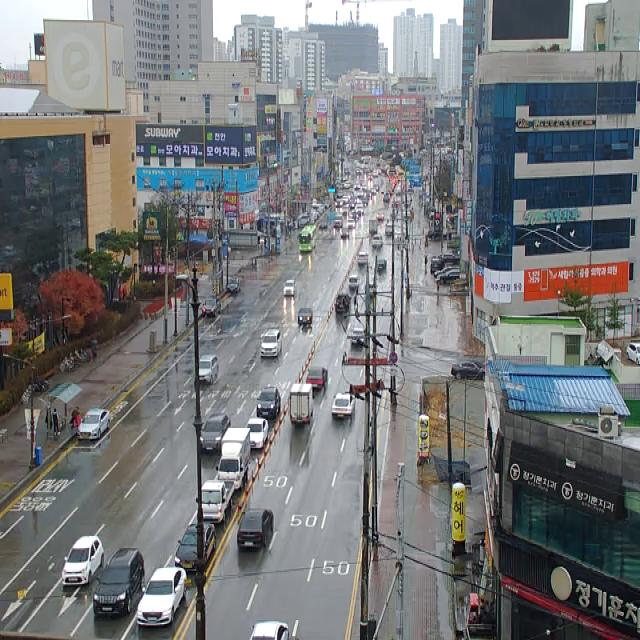Bus: (297, 225, 316, 253)
Car: (93, 548, 145, 616), (137, 566, 187, 626), (62, 536, 104, 586), (175, 524, 216, 573), (237, 508, 274, 552), (200, 414, 230, 452), (78, 408, 110, 440), (250, 621, 289, 640), (257, 387, 280, 418), (245, 418, 268, 448), (199, 354, 219, 384), (261, 329, 281, 358), (451, 362, 485, 379), (332, 393, 355, 418), (306, 367, 328, 388), (437, 269, 460, 284), (202, 298, 220, 315), (335, 294, 351, 312), (627, 343, 640, 364), (434, 267, 456, 279), (438, 253, 460, 265), (428, 227, 448, 240), (298, 308, 313, 324), (352, 328, 365, 346), (227, 278, 240, 294), (284, 280, 296, 297), (365, 281, 378, 296), (348, 275, 359, 290), (431, 259, 442, 273), (358, 252, 368, 267), (372, 235, 383, 248), (376, 258, 387, 270), (333, 215, 343, 228), (384, 223, 392, 238), (318, 220, 328, 230), (376, 210, 384, 222), (341, 228, 349, 239), (347, 219, 355, 228)
Truck: (215, 428, 250, 490), (196, 480, 234, 525), (290, 384, 315, 424), (369, 219, 378, 235)
